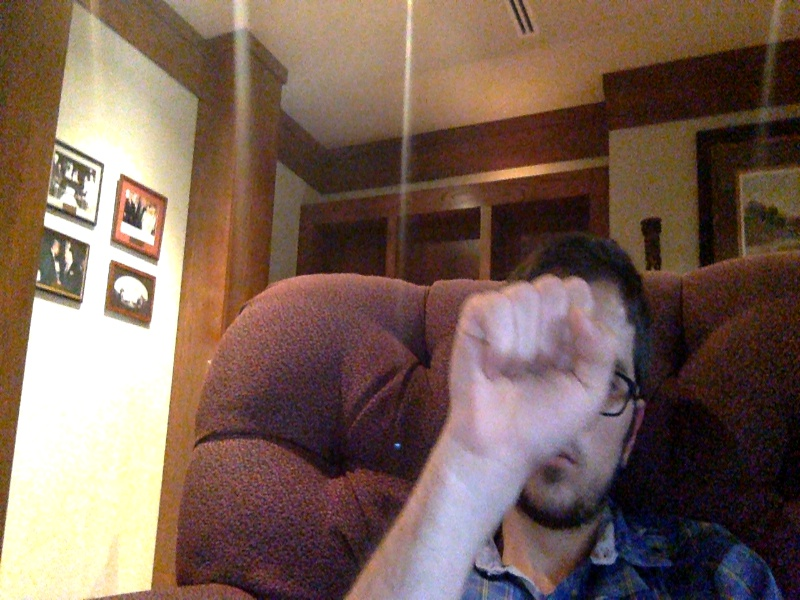0-hand: (445, 280, 615, 463)
